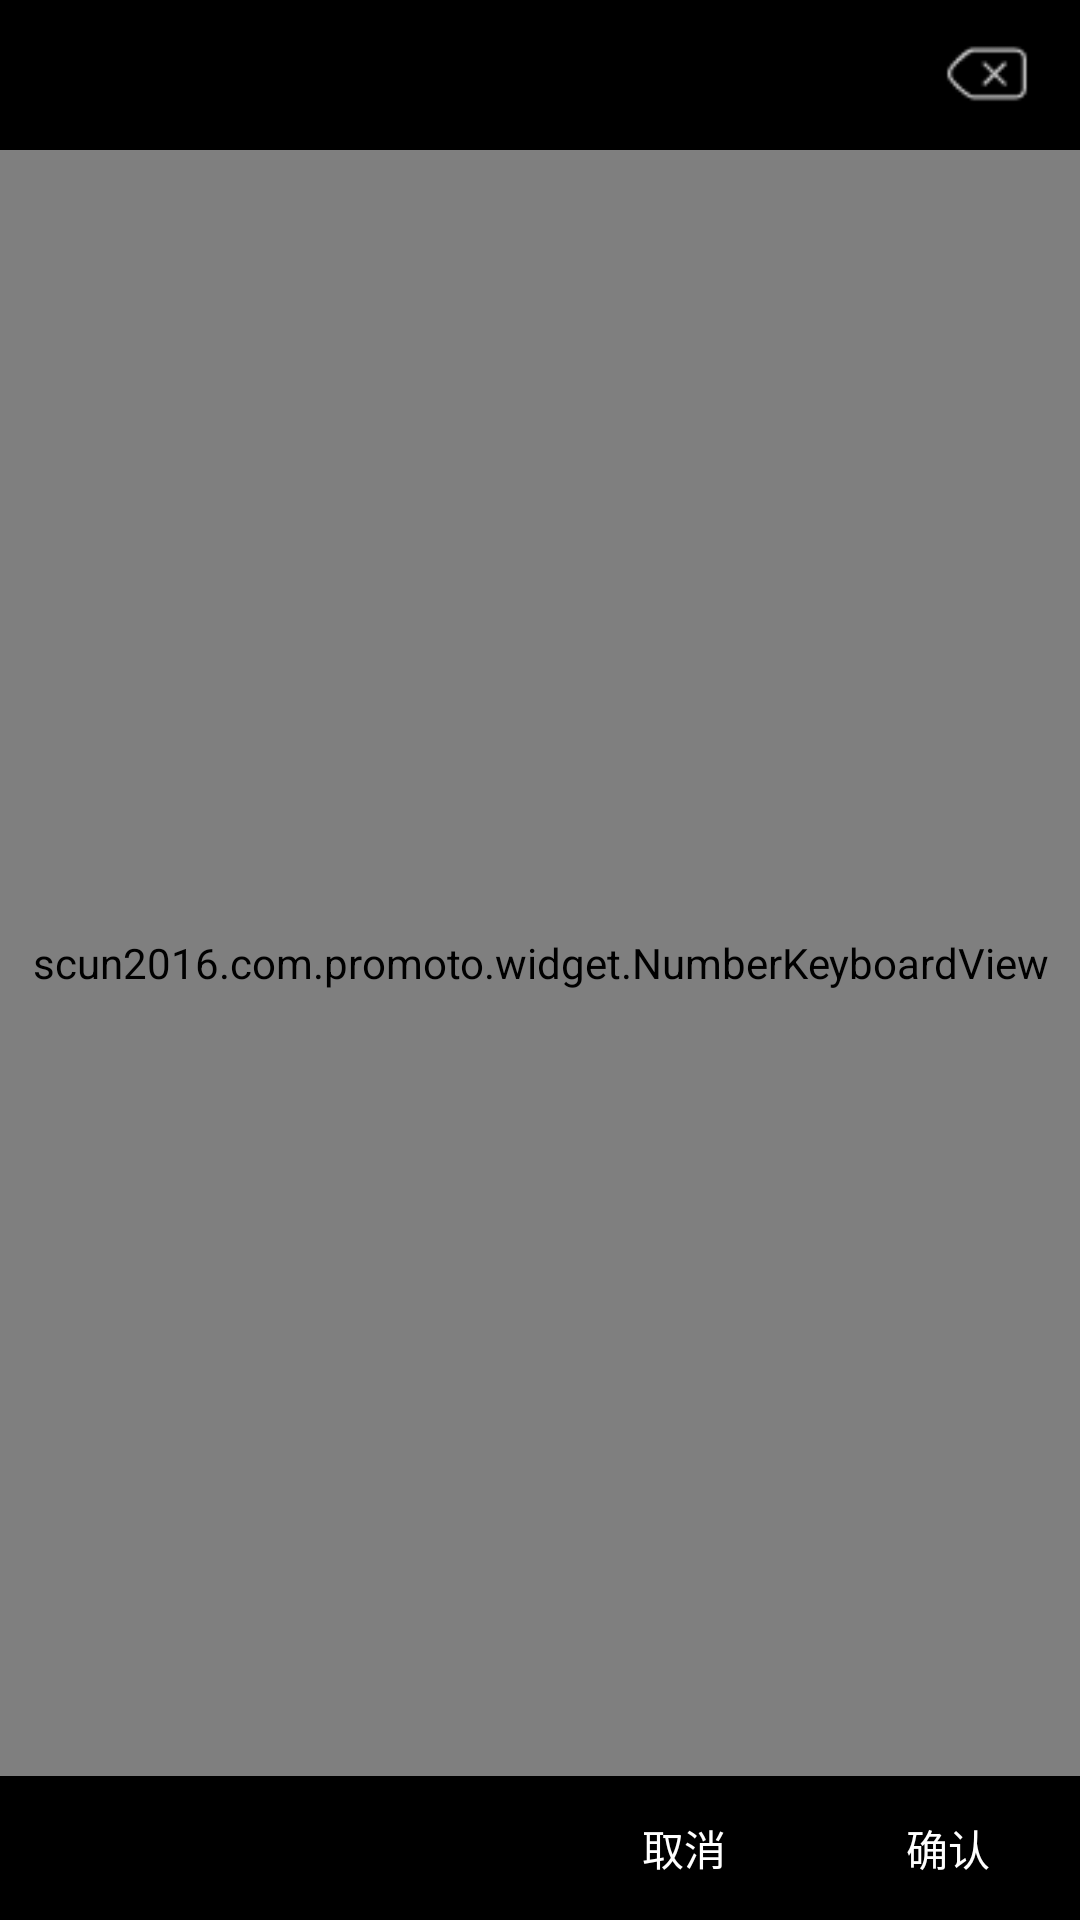

Where to tap for icons on this 1080px×1920px app screen, as (x,y):
delete disable: (987,73)
